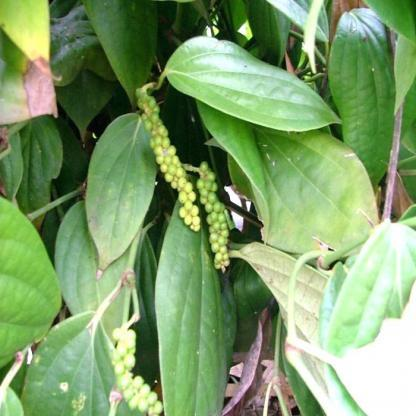Bell_pepper leaf spot: (236, 113, 384, 262), (165, 31, 346, 144), (154, 181, 238, 416), (86, 112, 158, 270), (26, 314, 136, 415)
